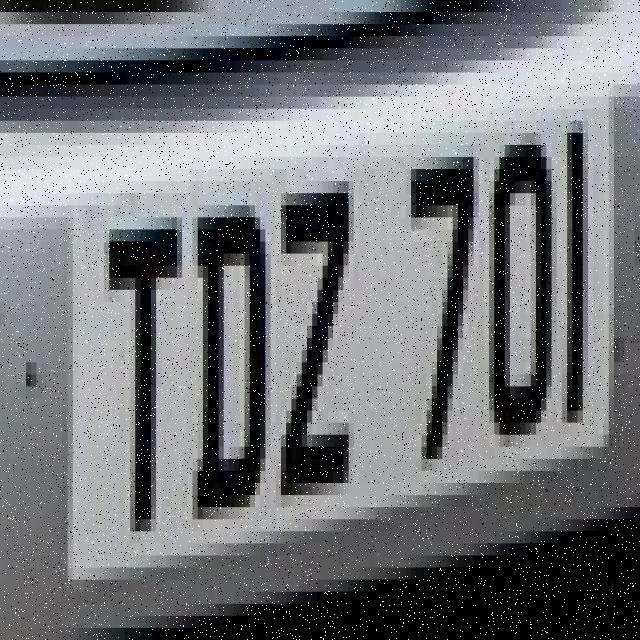licenseplate: (53, 105, 640, 562)
